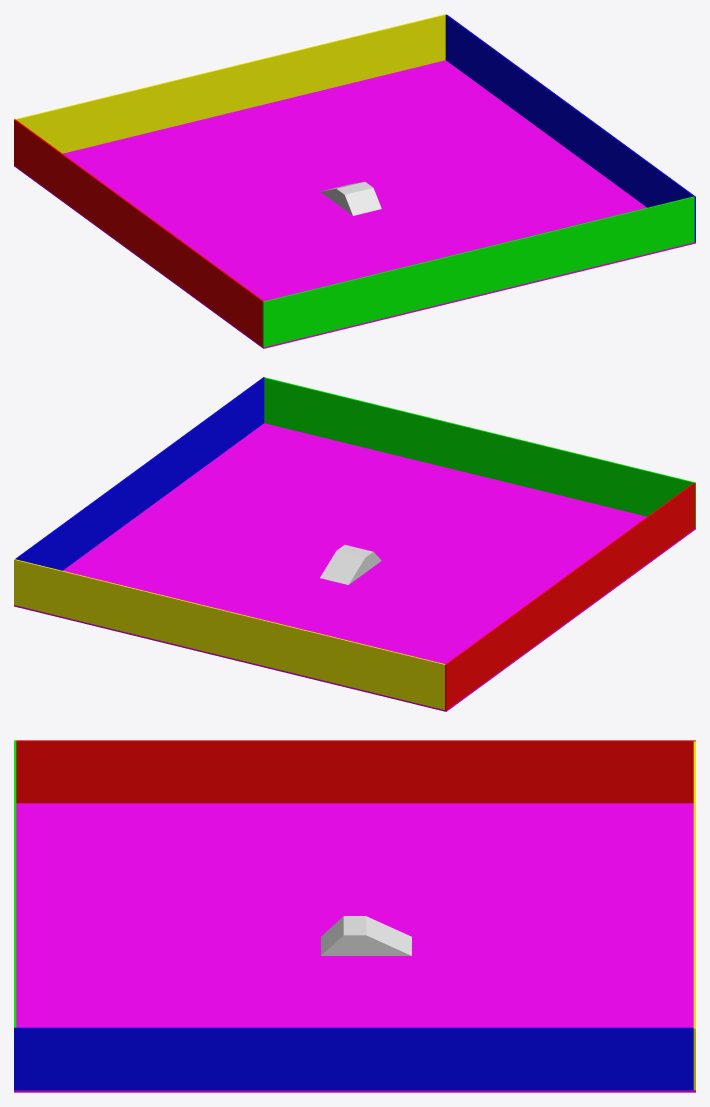
File: TestStage.fbx
3 views of the same model, one above another, from view 1: azimuth 30°, elevation 25°; view 2: azimuth 150°, elevation 25°; view 3: azimuth 270°, elevation 25° (orthographic). The views are drawn at different scales.
Parts seen in each view (by area): view 1: Cube, 立方体.001, 立方体, 立方体.003, 立方体.002, 立方体.004; view 2: Cube, 立方体, 立方体.001, 立方体.003, 立方体.002, 立方体.004; view 3: Cube, 立方体.002, 立方体.003, 立方体.004, 立方体, 立方体.001.
Boxes of the visible parts, x1,y1,x2,y2 form: Cube: (14,60,695,348); 立方体.001: (262,196,694,347); 立方体: (15,14,446,153); 立方体.003: (14,119,263,346); 立方体.002: (445,14,695,241); 立方体.004: (320,182,381,215); Cube: (14,423,695,711); 立方体: (14,559,445,709); 立方体.001: (264,377,695,527); 立方体.003: (445,483,695,710); 立方体.002: (15,377,264,570); 立方体.004: (320,545,381,584); Cube: (14,803,695,1092); 立方体.002: (14,1027,693,1090); 立方体.003: (16,740,695,803); 立方体.004: (321,916,411,955); 立方体: (693,741,695,1090); 立方体.001: (14,740,16,1027).
Size of the model in its own units: 600 by 62 by 600.
